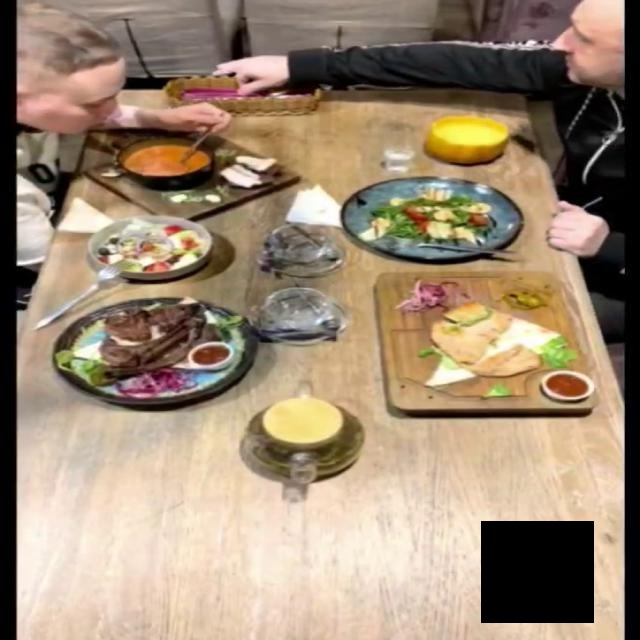meat: (376, 270, 598, 412), (50, 296, 261, 405)
salad: (344, 176, 526, 260), (85, 212, 214, 280)
soup: (79, 127, 301, 220), (425, 115, 510, 163)
tea: (243, 397, 366, 479)
